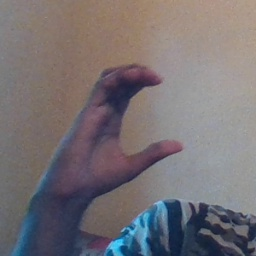C: (93, 60, 192, 175)
